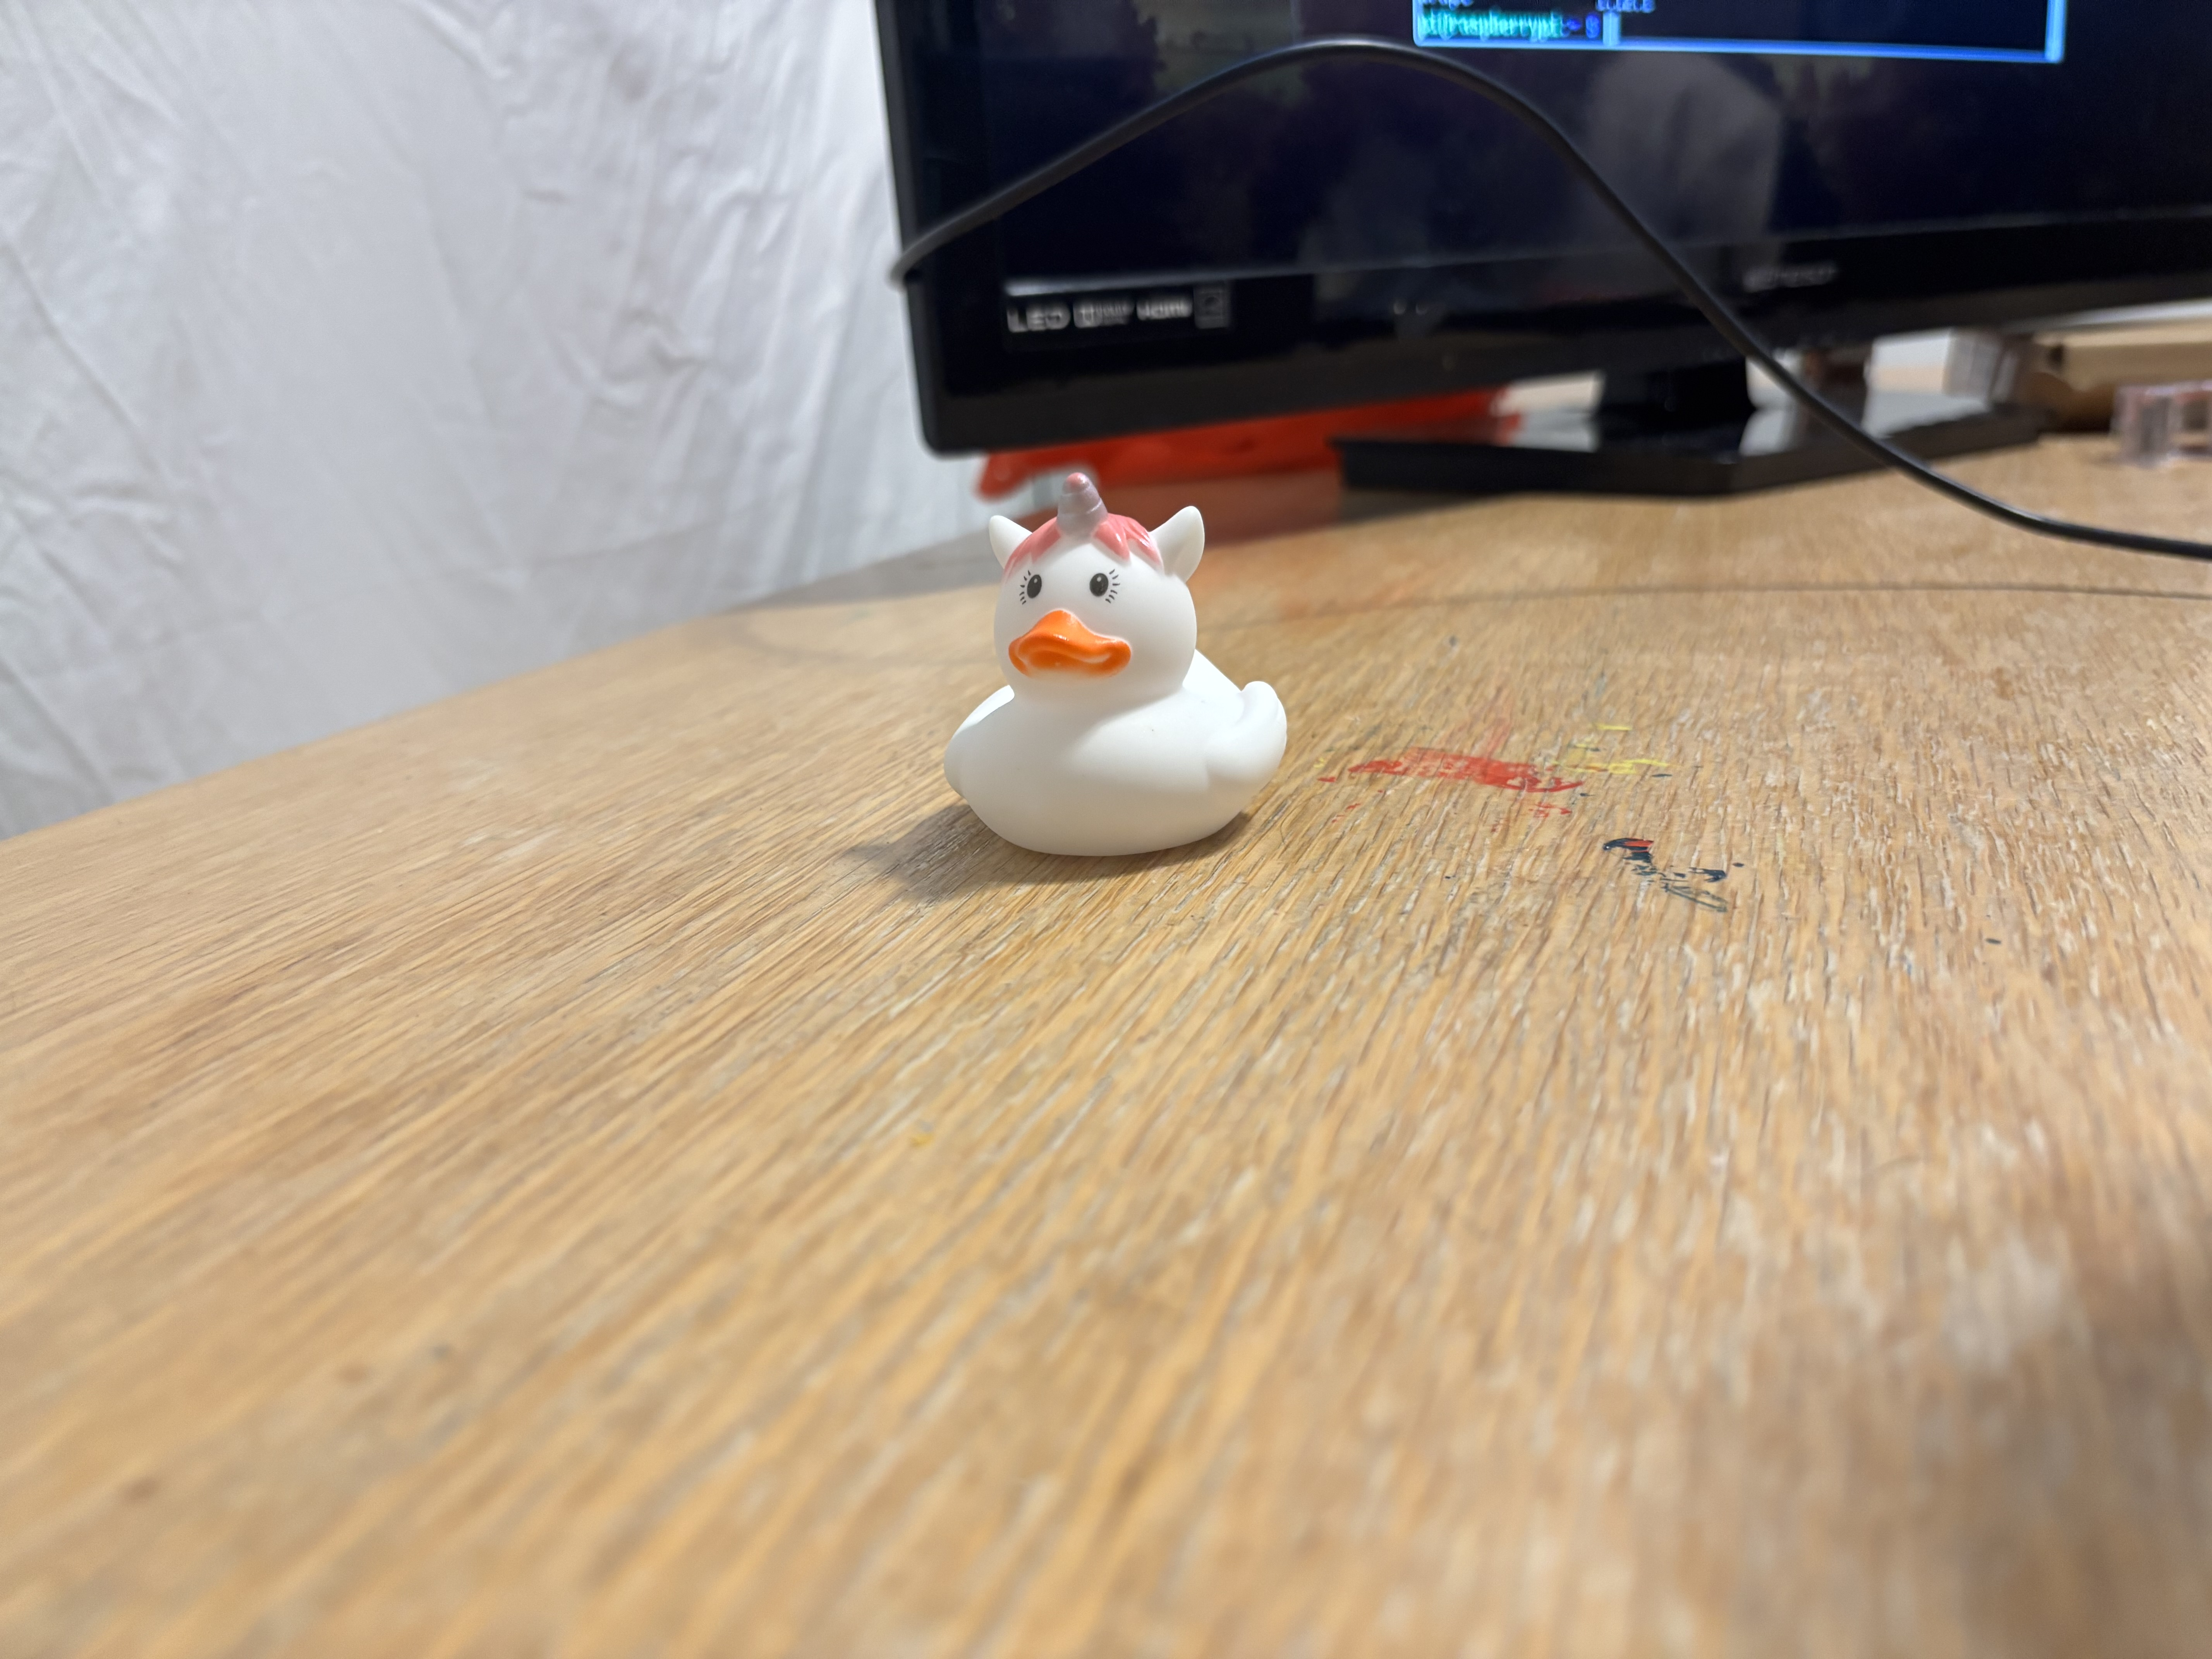Ducks (Specialty): (953, 465, 1294, 840)
